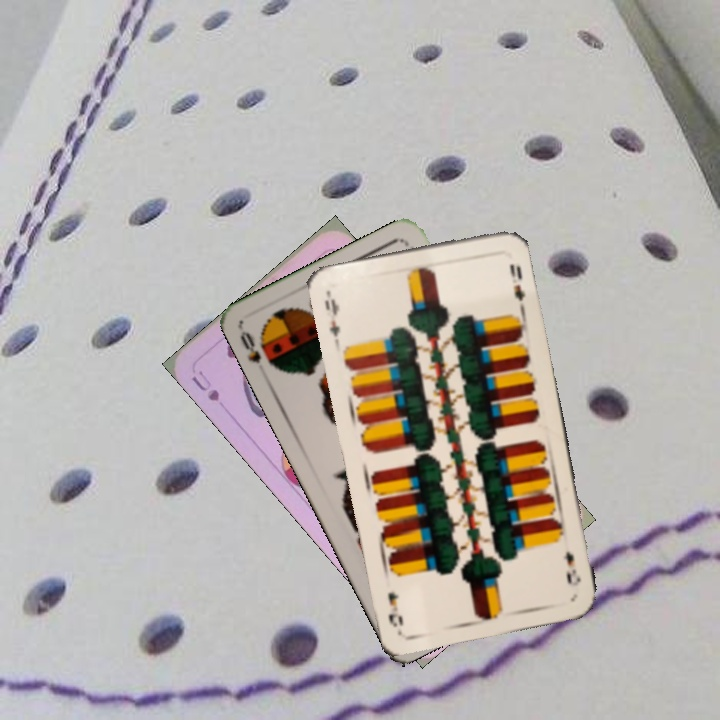E9: (320, 288, 343, 348), (560, 547, 583, 589)
SO: (236, 327, 264, 367)
SU: (188, 366, 222, 404)
